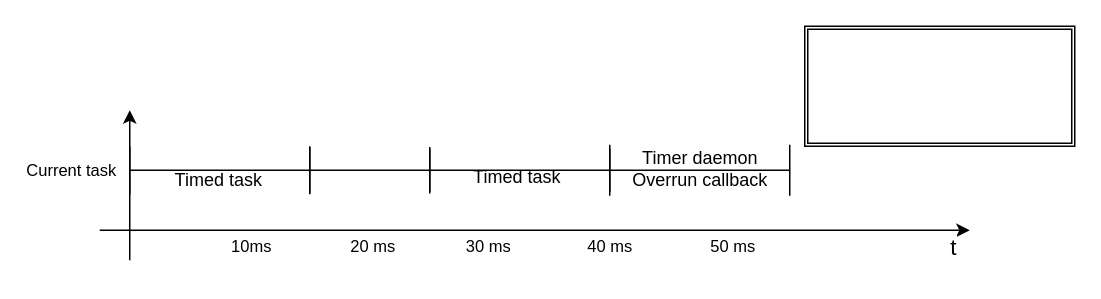
Some shapes in this 1101 by 299 pixel diagram are drawn without their labels. Here are the shapes that lost their labels. From the top down, the centre of each, then its label:
At point (939, 85): "Overrun timeout = 30 ms Overflow timer disabled".
At point (369, 170): "Idle task".
